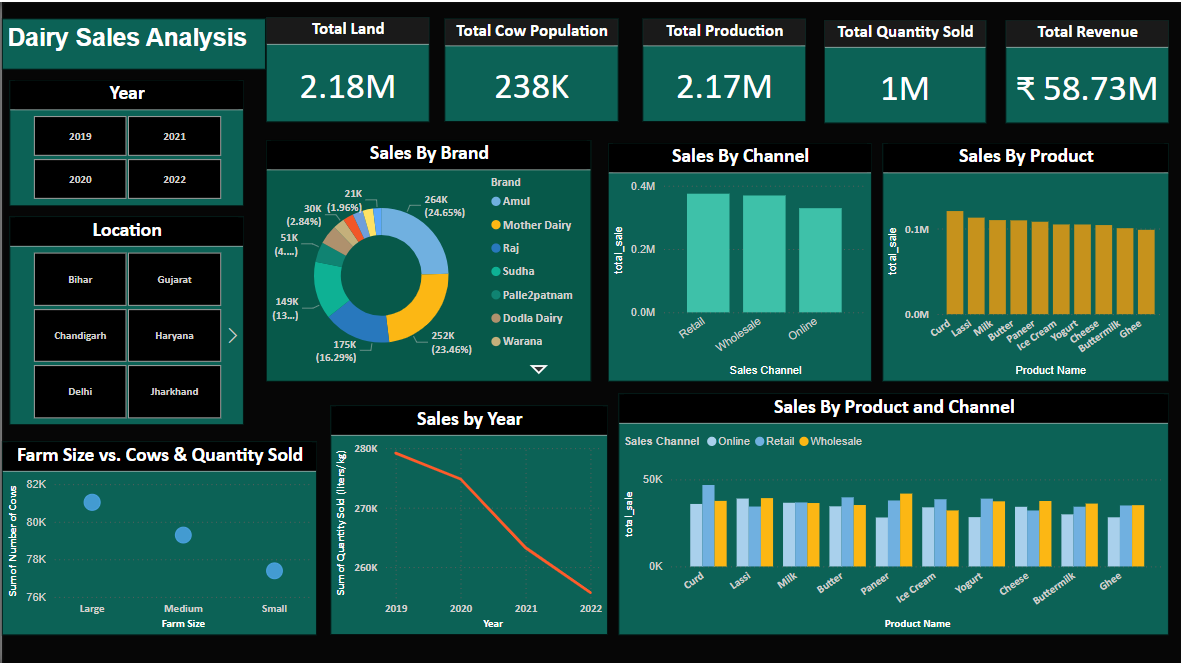

This screenshot's page, from the dashboard's own definition file:
{"tool":"powerbi","page":{"name":"Page 1","canvas":[1280,720],"ordinal":0},"visuals":[{"type":"card","title":"Total Production","fields":{"Values":["dairy_goods_analysis.total_production"]},"box":[694.5,17.9,177.3,112.2],"z":0},{"type":"card","title":"Total Revenue","fields":{"Values":["dairy_goods_analysis.total_revenu"]},"box":[1088.2,19.5,177.3,112.2],"z":1000},{"type":"donutChart","title":"Sales By Brand","fields":{"Y":["Sum(dairy_goods_analysis.Quantity Sold (liters/kg))"],"Category":["dairy_goods_analysis.Brand"]},"box":[286.3,149.6,353,261.9],"z":2000},{"type":"columnChart","title":"Sales By Product","fields":{"Category":["dairy_goods_analysis.Product Name"],"Y":["dairy_goods_analysis.total_sale"]},"box":[954.8,152.9,310.7,258.6],"z":3000},{"type":"scatterChart","title":"Farm Size vs. Cows & Quantity Sold","fields":{"X":["dairy_goods_analysis.Farm Size"],"Y":["Sum(dairy_goods_analysis.Number of Cows)"],"Size":["Sum(dairy_goods_analysis.Quantity Sold (liters/kg))"]},"box":[0,476.6,341.6,209.8],"z":4000},{"type":"lineChart","title":"Sales by Year","fields":{"Y":["Sum(dairy_goods_analysis.Quantity Sold (liters/kg))"],"Category":["dairy_goods_analysis.Date.Variation.Date Hierarchy.Year","dairy_goods_analysis.Date.Variation.Date Hierarchy.Quarter","dairy_goods_analysis.Date.Variation.Date Hierarchy.Month","dairy_goods_analysis.Date.Variation.Date Hierarchy.Day"]},"box":[356.2,437.5,300.9,248.9],"z":5000},{"type":"slicer","title":"Year","fields":{"Values":["dairy_goods_analysis.Date.Variation.Date Hierarchy.Year"]},"box":[8.1,84.6,253.7,136.6],"z":6000},{"type":"card","title":"Total Quantity Sold","fields":{"Values":["dairy_goods_analysis.sum_of_quantity_sold"]},"box":[891.3,19.5,175.7,112.2],"z":7000},{"type":"card","title":"Total Cow Population","fields":{"Values":["dairy_goods_analysis.total_cow_population"]},"box":[479.8,17.9,188.7,112.2],"z":8000},{"type":"card","title":"Total Land","fields":{"Values":["dairy_goods_analysis.total_land"]},"box":[286.3,16.3,177.3,113.9],"z":9000},{"type":"textbox","box":[0,17.9,286.3,55.3],"z":10000},{"type":"clusteredColumnChart","title":"Sales By Product and  Channel","fields":{"Y":["dairy_goods_analysis.total_sale"],"Series":["dairy_goods_analysis.Sales Channel"],"Category":["dairy_goods_analysis.Product Name"]},"box":[668.5,424.5,596.9,261.9],"z":11000},{"type":"slicer","title":"Location","fields":{"Values":["dairy_goods_analysis.Location"]},"box":[8.1,232.6,253.7,226.1],"z":12000},{"type":"columnChart","title":"Sales By Channel","fields":{"Y":["dairy_goods_analysis.total_sale"],"Category":["dairy_goods_analysis.Sales Channel"]},"box":[657.1,152.9,286.3,258.6],"z":13000}]}

Visuals, with their boxes in screenshot pixels (x1, y1, x2, y2), scaled from the page's 1280x720 canvas onto the 1181x663 screenshot:
"Total Production" card: 641/16/804/120
"Total Revenue" card: 1004/18/1168/121
"Sales By Brand" donutChart: 264/138/590/379
"Sales By Product" columnChart: 881/141/1168/379
"Farm Size vs. Cows & Quantity Sold" scatterChart: 0/439/315/632
"Sales by Year" lineChart: 329/403/606/632
"Year" slicer: 7/78/242/204
"Total Quantity Sold" card: 822/18/984/121
"Total Cow Population" card: 443/16/617/120
"Total Land" card: 264/15/428/120
textbox: 0/16/264/67
"Sales By Product and  Channel" clusteredColumnChart: 617/391/1168/632
"Location" slicer: 7/214/242/422
"Sales By Channel" columnChart: 606/141/870/379
